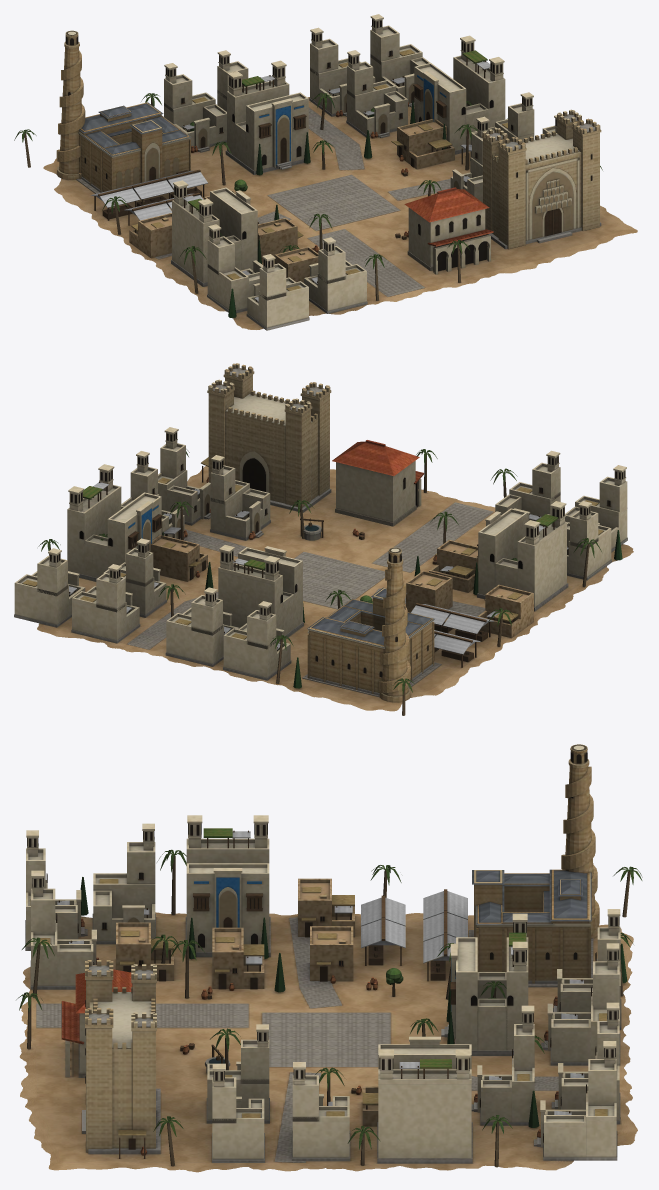
Rendered from kingdoms-town-medium-b-levant-386ccde2.glb.
The picture shows the model from 3 angles, top to bottom: view 1: azimuth 30°, elevation 25°; view 2: azimuth 150°, elevation 25°; view 3: azimuth 270°, elevation 25°; orthographic projection. The views are drawn at different scales.
Visible parts, largest first — view 1: LOD0; view 2: LOD0; view 3: LOD0.
Boxes of the visible parts, box(x1,y1,x2,y2) form: LOD0: box(14, 14, 637, 330); LOD0: box(14, 363, 633, 715); LOD0: box(16, 744, 642, 1172).
Size of what is drawn, in the model's own units: 6.16 by 2 by 6.09.
Materials: 3 (3 with a texture image).
